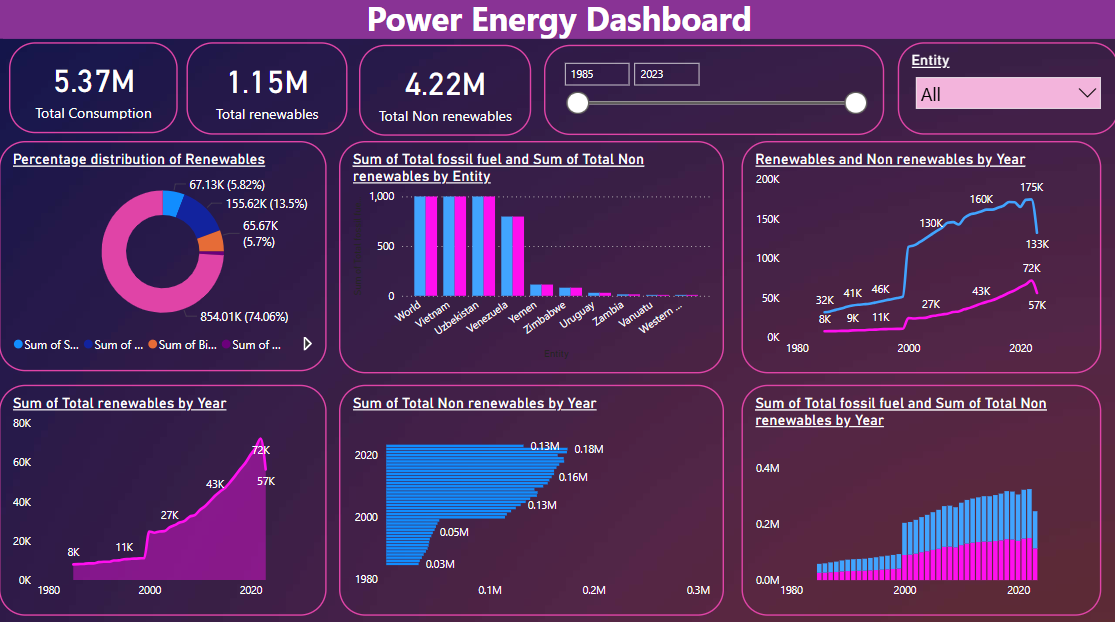

What the dashboard file says about the page in this screenshot:
{"tool":"powerbi","page":{"name":"Page 1","canvas":[1280,720],"ordinal":0},"visuals":[{"type":"actionButton","box":[0,0,100,40],"z":0},{"type":"card","fields":{"Values":["Sum(powerenergy energy_data.Total Consumpton)"]},"box":[11.4,52.9,192.9,104.3],"z":1000},{"type":"card","fields":{"Values":["Sum(powerenergy energy_data.Total renewables)"]},"box":[214.3,52.9,184.3,105.7],"z":2000},{"type":"card","fields":{"Values":["Sum(powerenergy energy_data.Total Non renewables)"]},"box":[411.4,55.7,197.1,104.3],"z":3000},{"type":"textbox","title":"Power Energy Dashboard","box":[0,0,1280,48.6],"z":4000},{"type":"areaChart","fields":{"Category":["powerenergy energy_data.Year"],"Y":["Sum(powerenergy energy_data.Total renewables)"]},"box":[0,444.3,374.3,264.3],"z":5000},{"type":"barChart","fields":{"Category":["powerenergy energy_data.Year"],"Y":["Sum(powerenergy energy_data.Total Non renewables)"]},"box":[388.6,444.3,440,264.3],"z":6000},{"type":"lineChart","title":"Renewables and Non renewables by Year","fields":{"Category":["powerenergy energy_data.Year"],"Y":["Sum(powerenergy energy_data.Total renewables)","Sum(powerenergy energy_data.Total Non renewables)"]},"box":[848.6,165.7,411.4,265.7],"z":8000},{"type":"lineStackedColumnComboChart","fields":{"Category":["powerenergy energy_data.Year"],"Y":["Sum(powerenergy energy_data.Total fossil fuel)","Sum(powerenergy energy_data.Total Non renewables)"]},"box":[848.6,444.3,411.4,264.3],"z":9000},{"type":"donutChart","title":"Percentage distribution of Renewables","fields":{"Y":["Sum(powerenergy energy_data.Solar_TWh)","Sum(powerenergy energy_data.Wind_TWh)","Sum(powerenergy energy_data.Bioenergy_TWh)","Sum(powerenergy energy_data.Other_renewables_TWh)","Sum(powerenergy energy_data.Hydro_TWh)"]},"box":[0,165.7,374.3,262.9],"z":9001},{"type":"lineClusteredColumnComboChart","fields":{"Category":["powerenergy energy_data.Entity"],"Y":["Sum(powerenergy energy_data.Total fossil fuel)","Sum(powerenergy energy_data.Total Non renewables)"]},"box":[388.6,165.7,440,265.7],"z":9002},{"type":"slicer","fields":{"Values":["powerenergy energy_data.Year"]},"box":[622.9,55.7,388.6,102.9],"z":9003},{"type":"slicer","title":"Entity","fields":{"Values":["powerenergy energy_data.Entity"]},"box":[1027.1,52.9,252.9,105.7],"z":9004}]}

Visuals, with their boxes in screenshot pixels (x1, y1, x2, y2), scaled from the page's 1280x720 canvas onto the 1115x622 screenshot:
actionButton: 0:0:87:35
card - Sum(powerenergy energy_data.Total Consumpton): 10:46:178:136
card - Sum(powerenergy energy_data.Total renewables): 187:46:347:137
card - Sum(powerenergy energy_data.Total Non renewables): 358:48:530:138
"Power Energy Dashboard" textbox: 0:0:1114:42
areaChart - powerenergy energy_data.Year x Sum(powerenergy energy_data.Total renewables): 0:384:326:612
barChart - powerenergy energy_data.Year x Sum(powerenergy energy_data.Total Non renewables): 339:384:722:612
"Renewables and Non renewables by Year" lineChart: 739:143:1098:373
lineStackedColumnComboChart - powerenergy energy_data.Year x Sum(powerenergy energy_data.Total fossil fuel): 739:384:1098:612
"Percentage distribution of Renewables" donutChart: 0:143:326:370
lineClusteredColumnComboChart - powerenergy energy_data.Entity x Sum(powerenergy energy_data.Total fossil fuel): 339:143:722:373
slicer - powerenergy energy_data.Year: 543:48:881:137
"Entity" slicer: 895:46:1114:137
